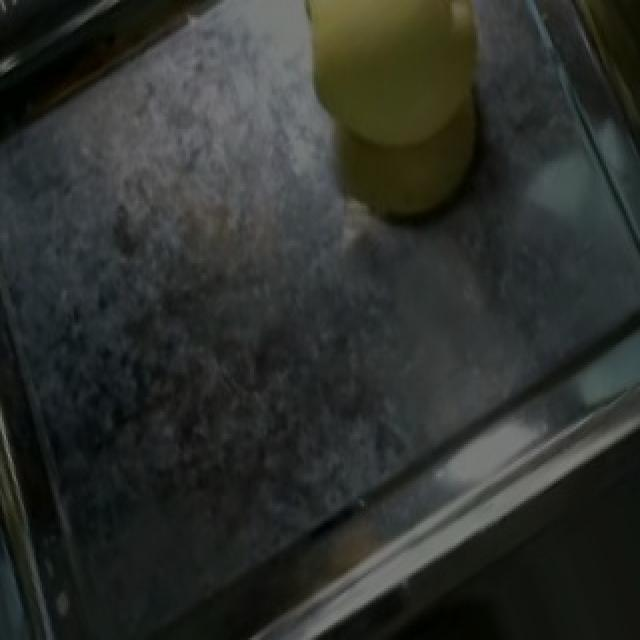Fruit: (264, 0, 526, 253)
